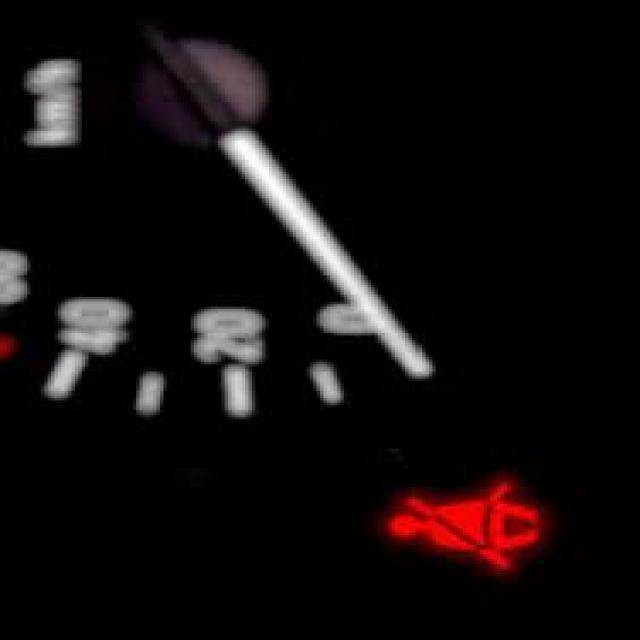Seat Belt: (388, 486, 542, 565)
